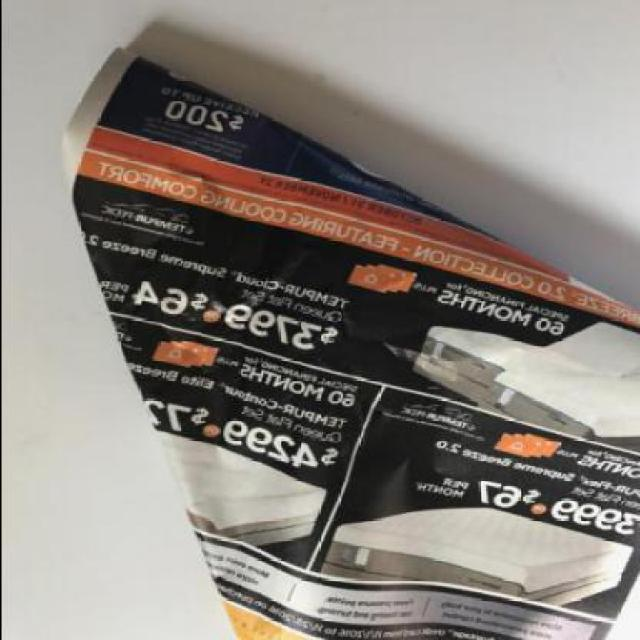PAPER: (61, 46, 638, 640)
